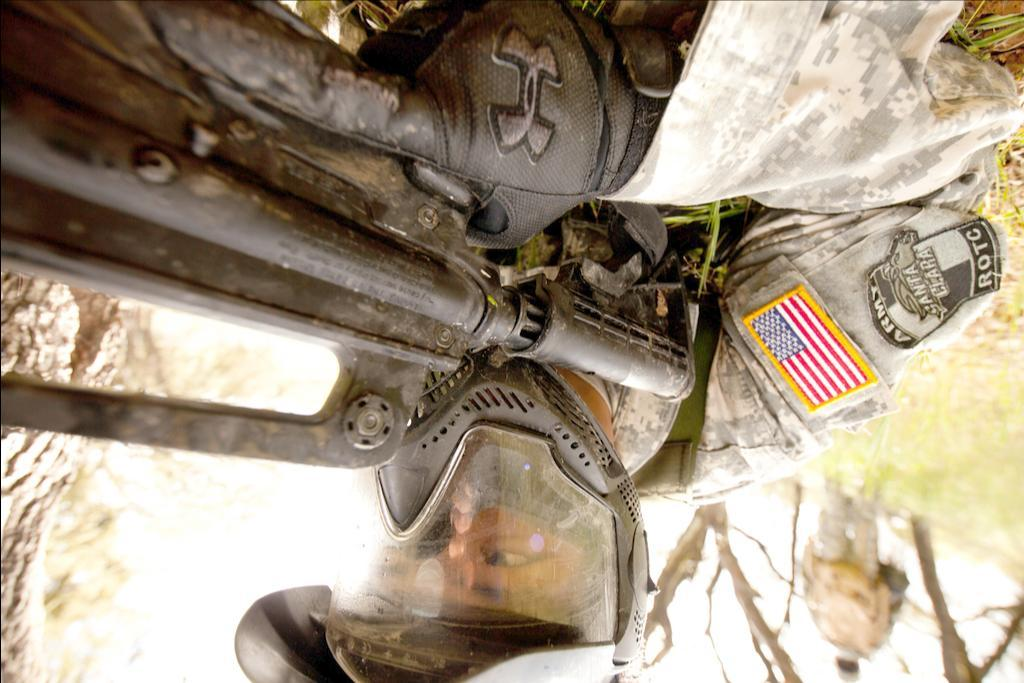gun: (0, 3, 697, 472)
